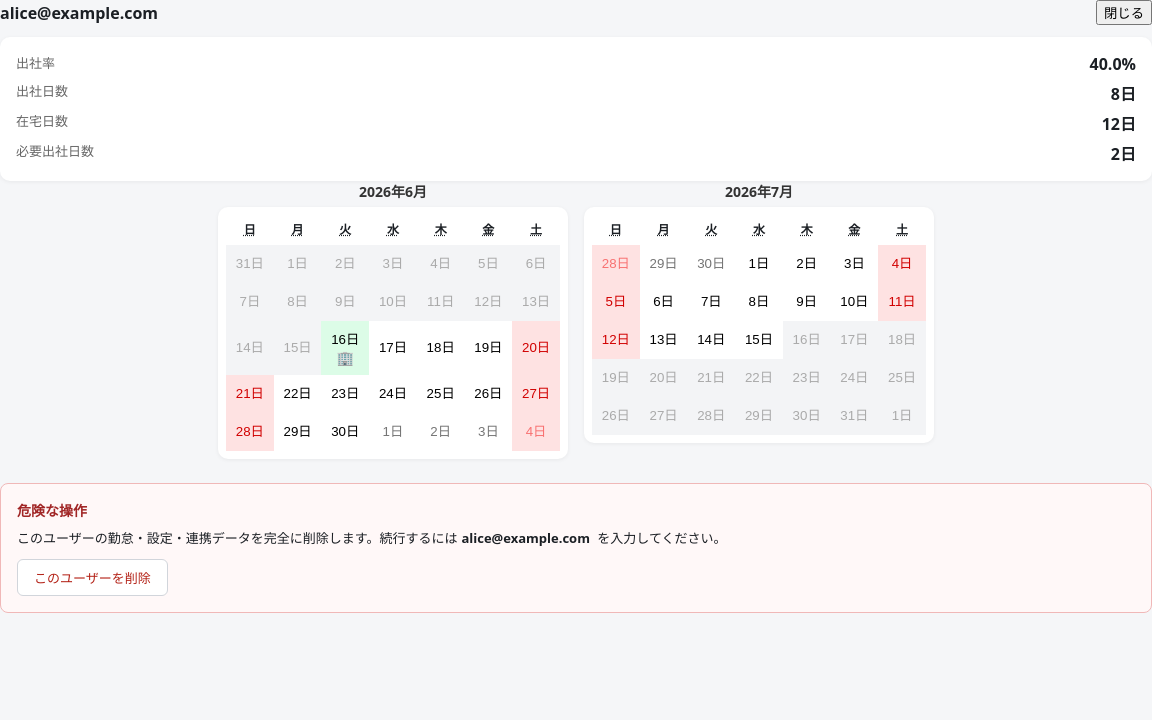
Test: AdminUserDetailPanel › 削除確認ダイアログはユーザーIDが完全一致するまで削除できない
Click the button "このユーザーを削除" at (92,578), box left=17, top=559, right=168, bottom=596
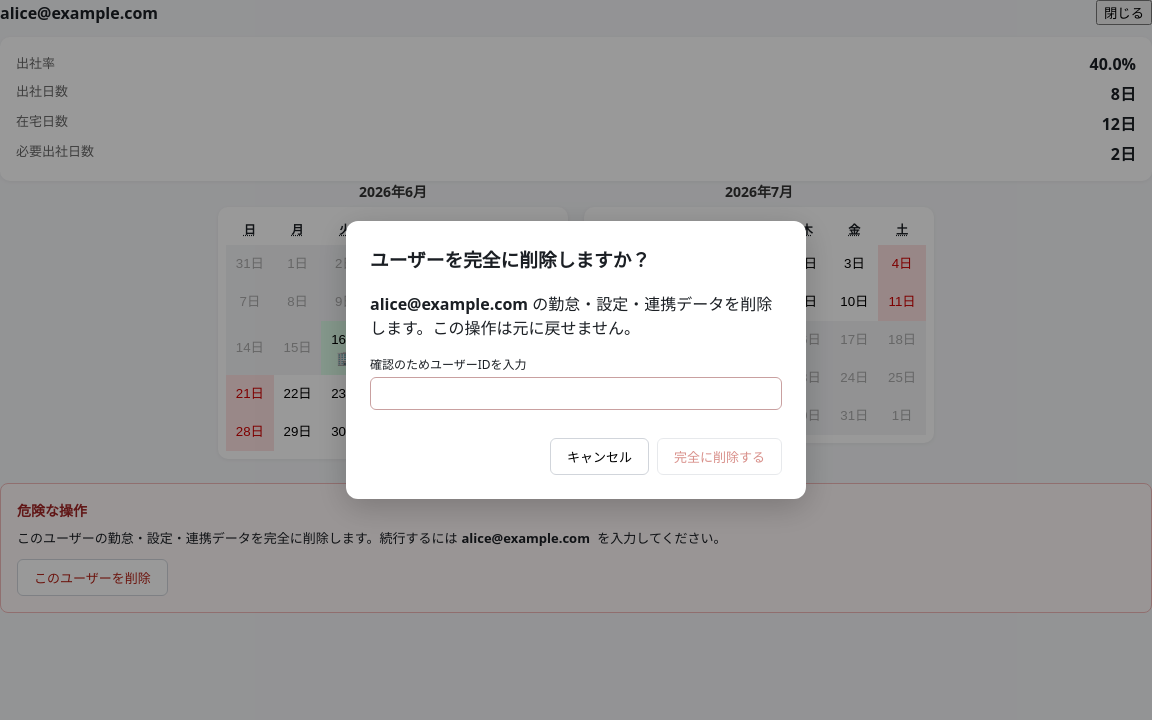
expect the button "完全に削除する" is disabled: met, box left=657, top=438, right=782, bottom=475
Type "alice" into the field labelled "確認のためユーザーIDを入力" at (576,393), box left=370, top=377, right=782, bottom=410
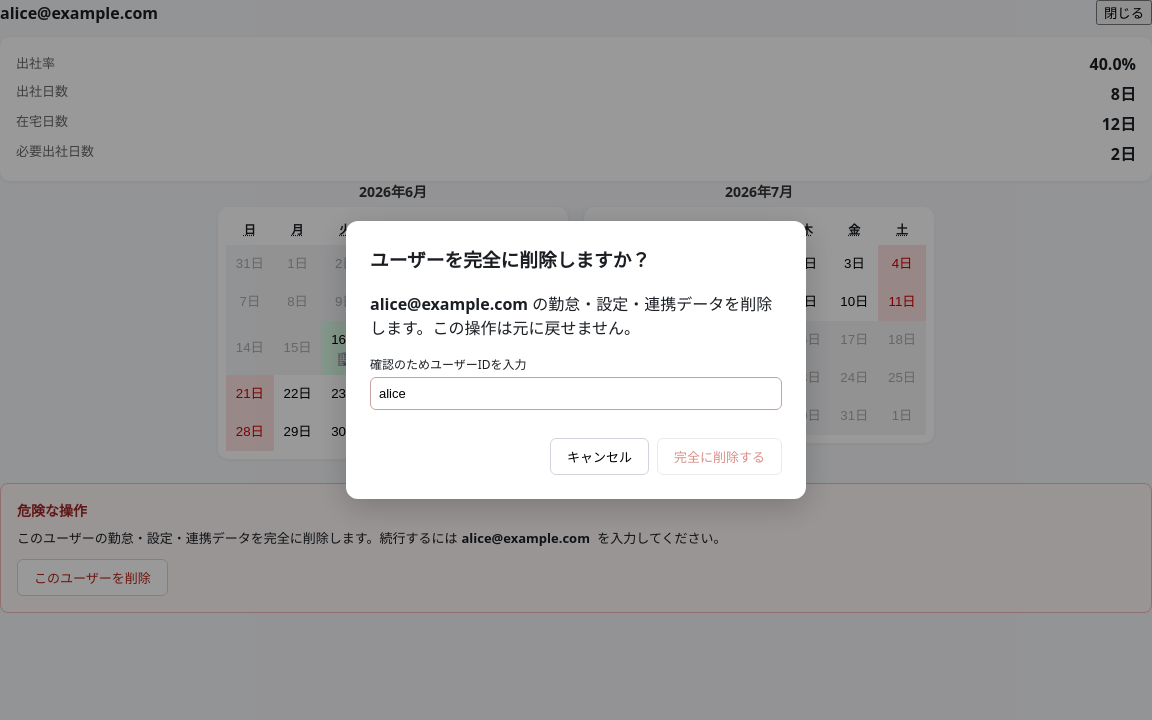
expect the button "完全に削除する" is disabled: met, box left=657, top=438, right=782, bottom=475
Replace the text in the field labelled "確認のためユーザーIDを入力" with "alice@example.com" at (576,393), box left=370, top=377, right=782, bottom=410
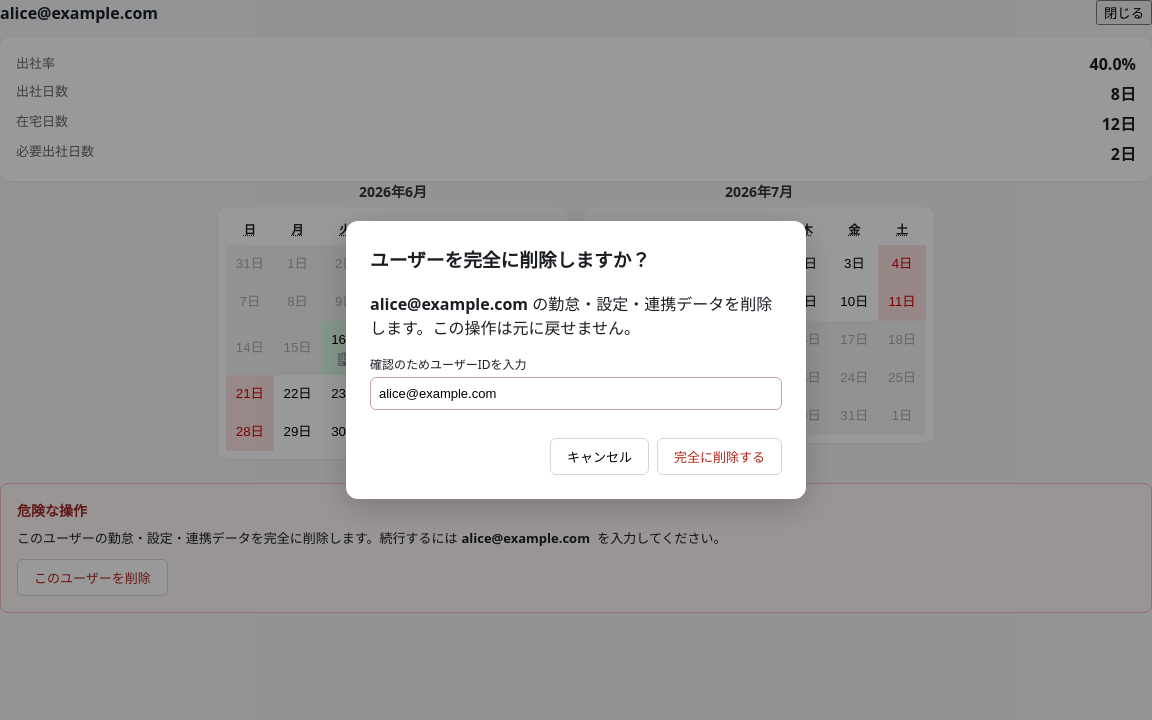
expect the button "完全に削除する" is enabled: met, box left=657, top=438, right=782, bottom=475
